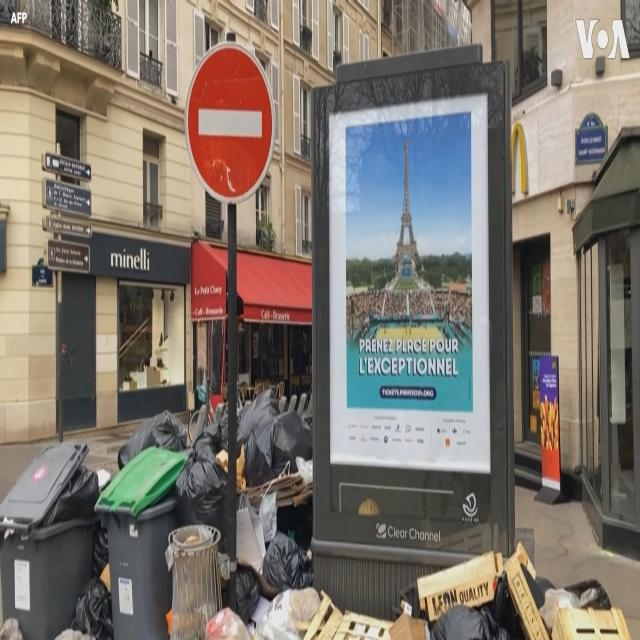high trash: (0, 391, 629, 640)
